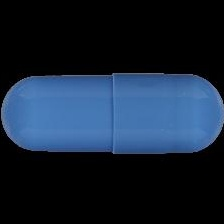63629-1676: (0, 0, 224, 224)
